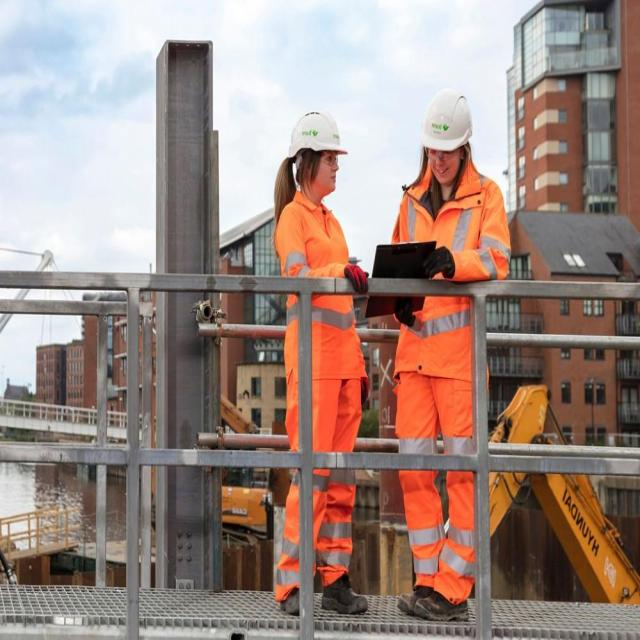Reflective-Jacket: (391, 170, 511, 410), (274, 195, 366, 388)
Safety-Helmet: (416, 78, 476, 154), (285, 100, 349, 162)
